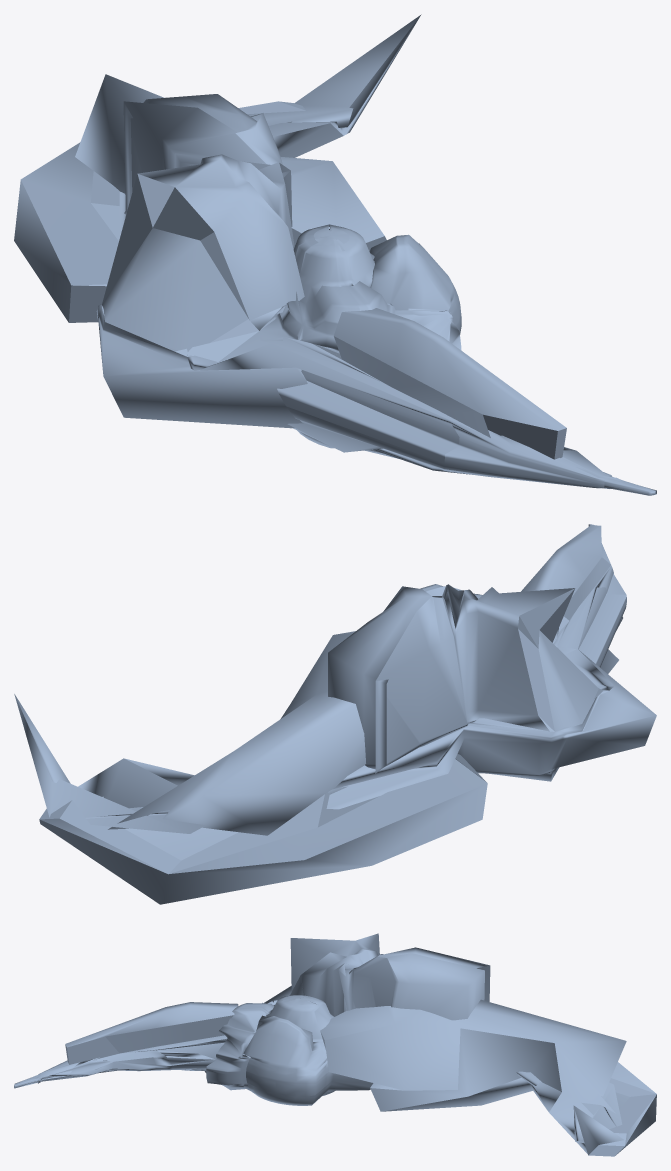
Rendered from CLOUD1.fbx.
3 renders of one model, top to bottom at view 1: azimuth 30°, elevation 25°; view 2: azimuth 150°, elevation 25°; view 3: azimuth 270°, elevation 25°, orthographic. The views are drawn at different scales.
Parts seen in each view (by area): view 1: pSphere8; view 2: pSphere8; view 3: pSphere8.
Boxes of the visible parts, x1,y1,x2,y2 form: pSphere8: (14,14,656,495); pSphere8: (14,524,656,904); pSphere8: (14,933,656,1156).
Size of the model in its own units: 38.43 by 15.95 by 64.99.
